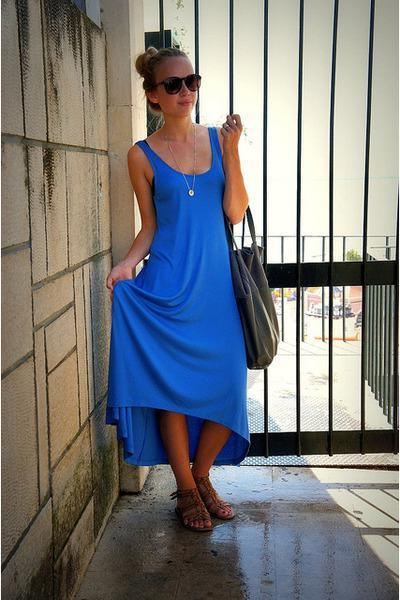dress: (93, 123, 256, 470)
